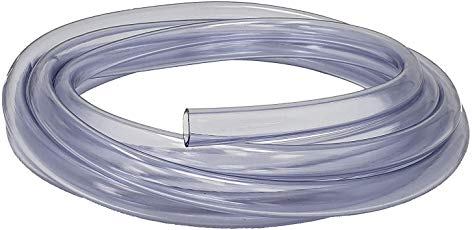Nonrec_Plastic: (3, 12, 470, 226)
